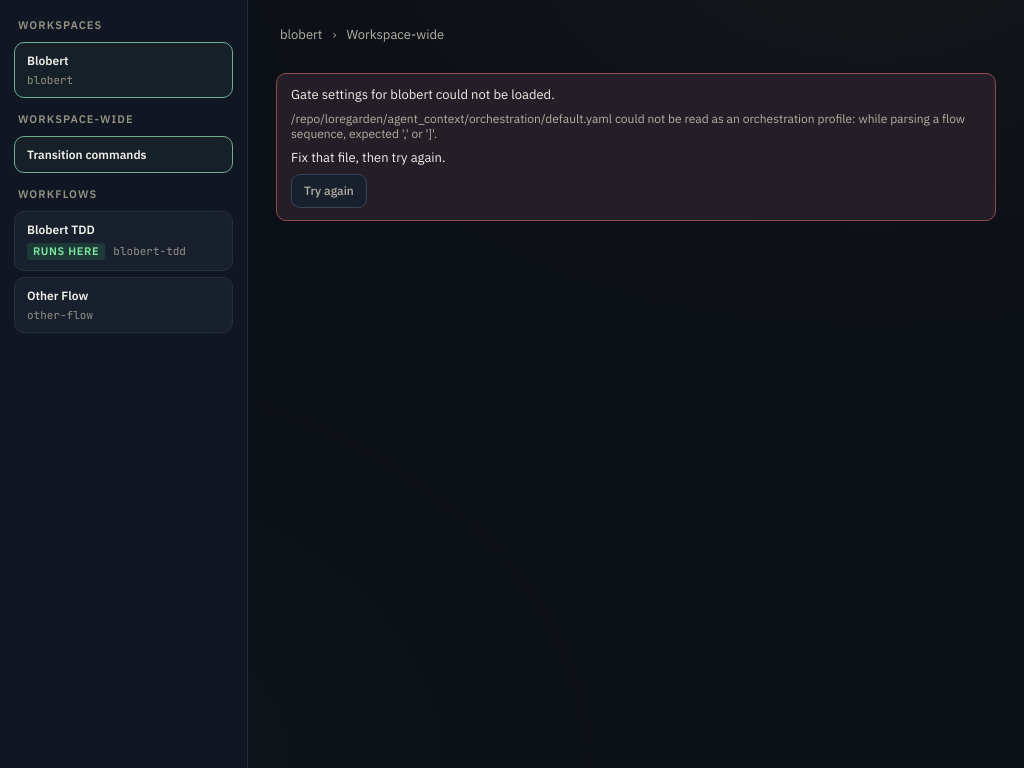
GateStudioPanel › offers a retry inside the alert that re-reads the profile
The image size is (1024, 768).
Click the button "Try again". click: (329, 191)
box: [291,174,367,208]
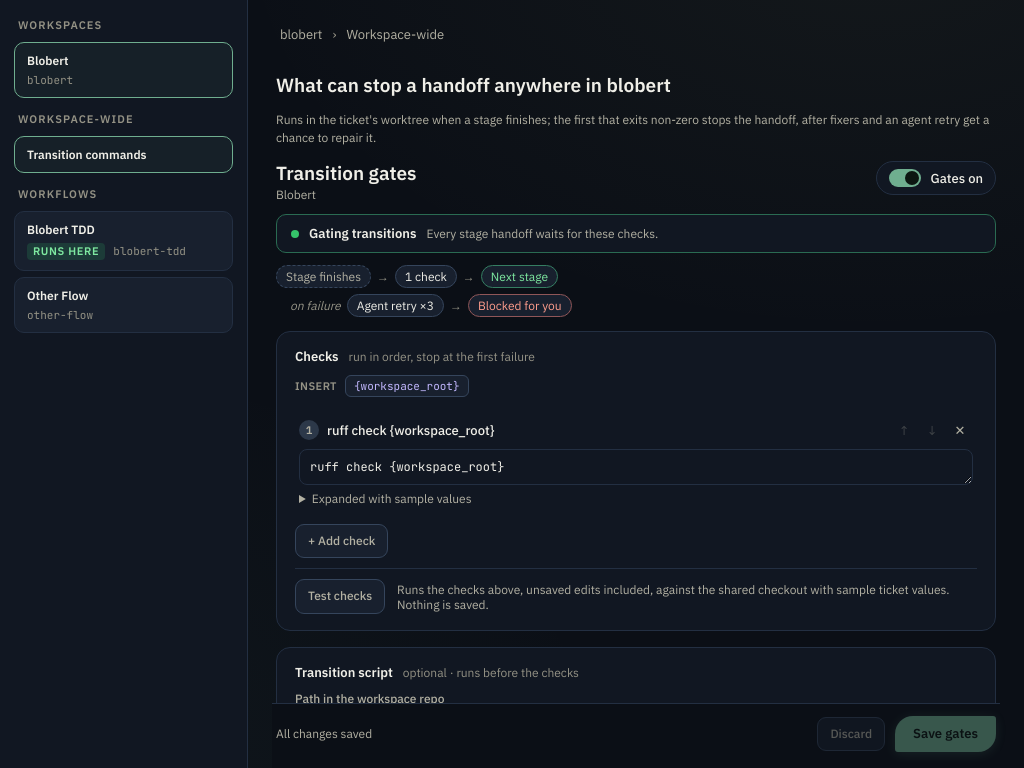
Expected: the text box showing "ruff check {workspace_root}" is shown, [299,449,973,485]
